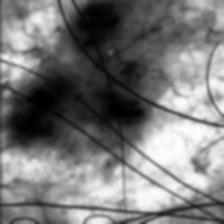Potentially Malignant Skin Tumors: (16, 4, 142, 140)
